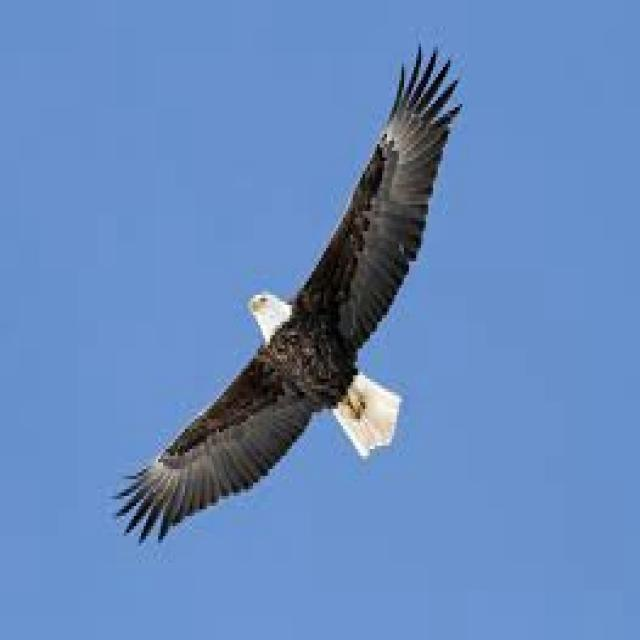eagle: (117, 47, 457, 536)
